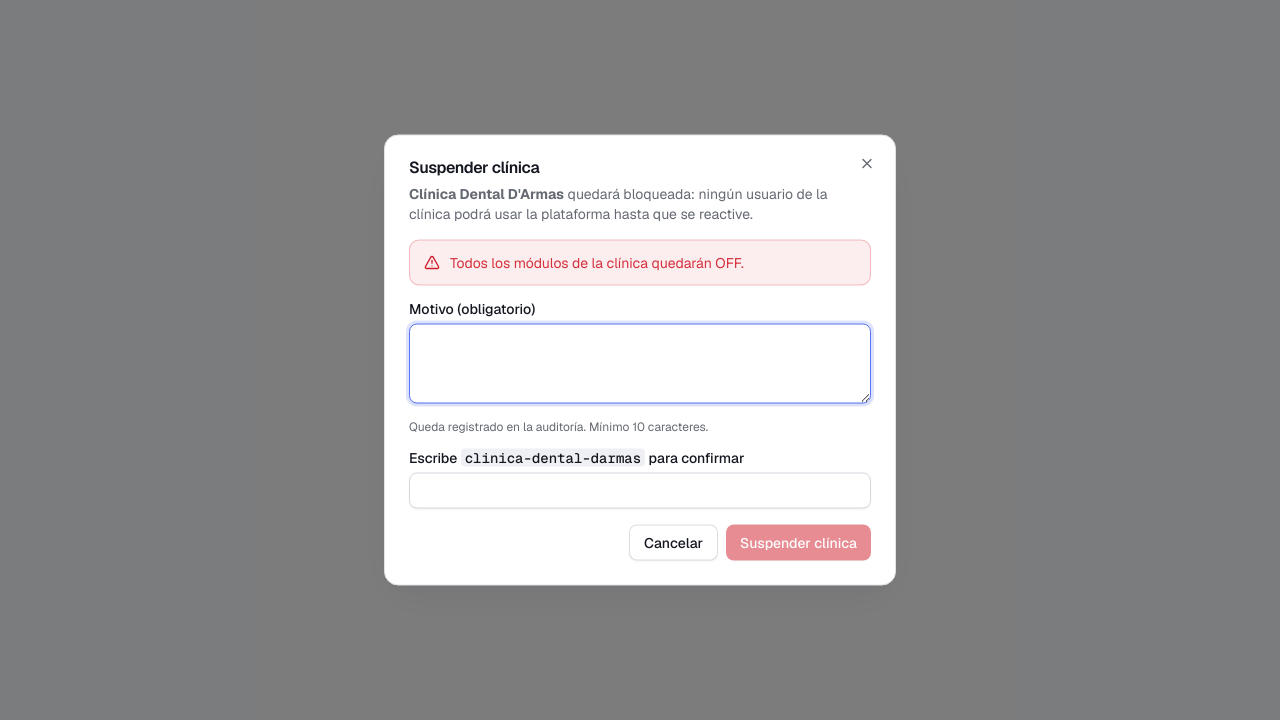
Test: SuspendClinicDialog › si el backend falla, muestra el error y no cierra
The width and height of the screenshot is (1280, 720).
Type "Falta de pago confirmada por finanzas" into the text box labelled "Motivo (obligatorio)" at (640, 364), box [409,324,871,404]
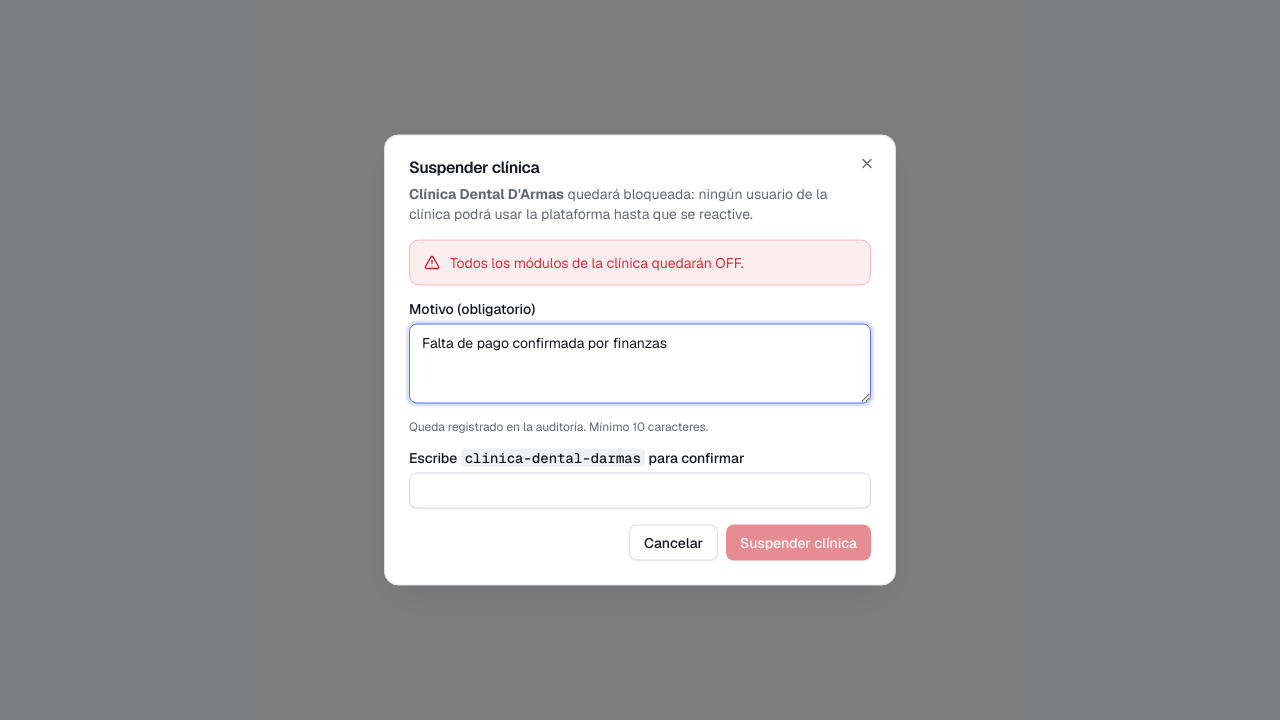
Type "clinica-dental-darmas" into the field labelled "Escribe clinica-dental-darmas para confirmar" at (640, 490), box [409,472,871,508]
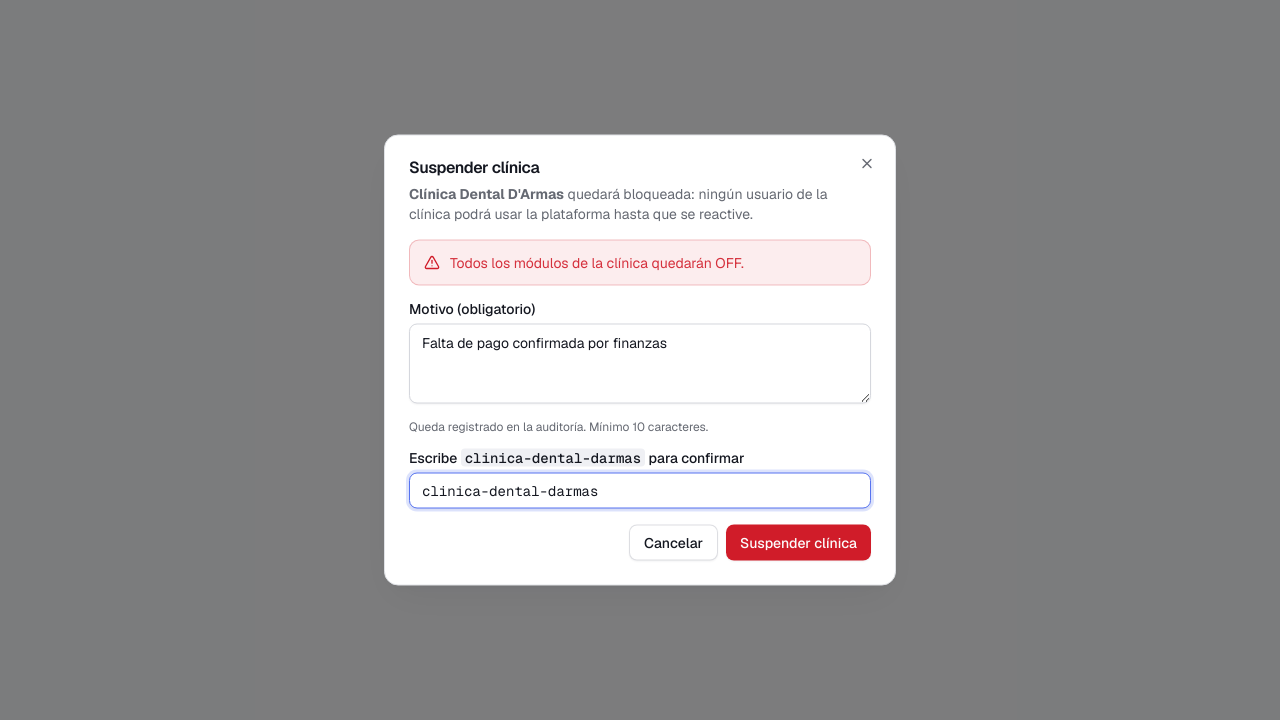
Click the button "Suspender clínica" at (798, 542), box [726,524,871,560]
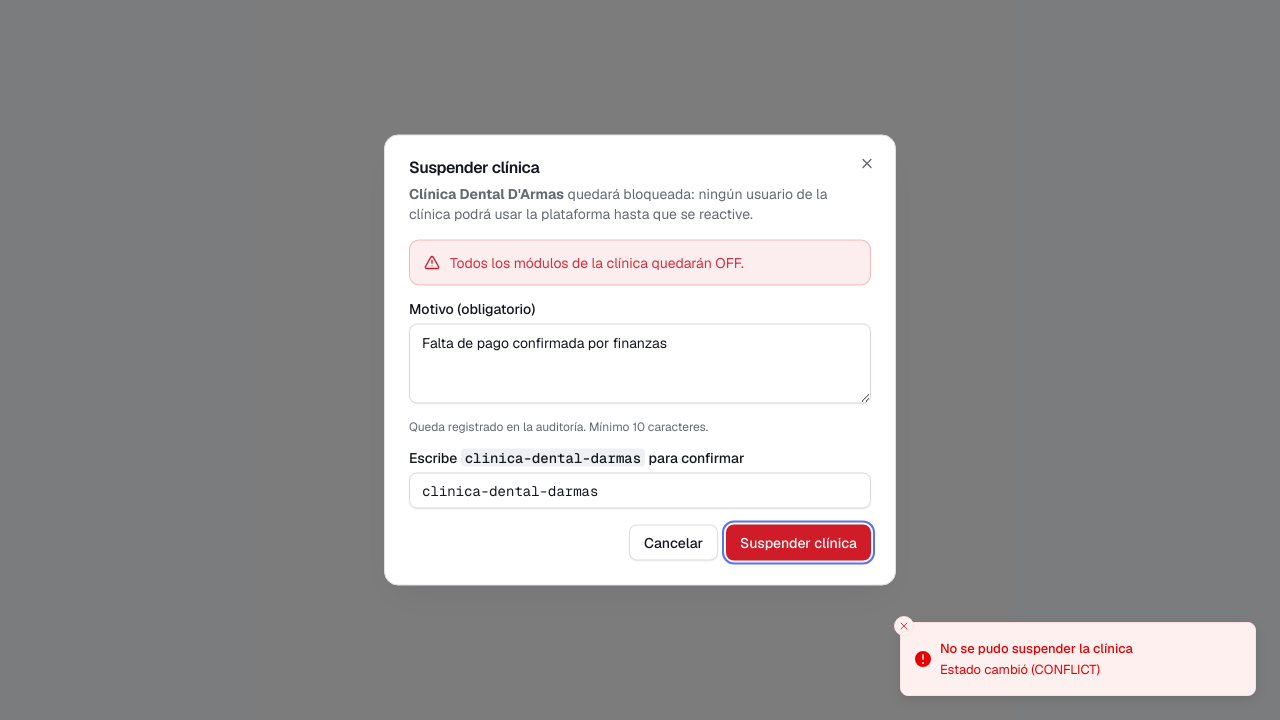
Check: the text "Estado cambió (CONFLICT)" is shown, box [940,661,1100,678]
